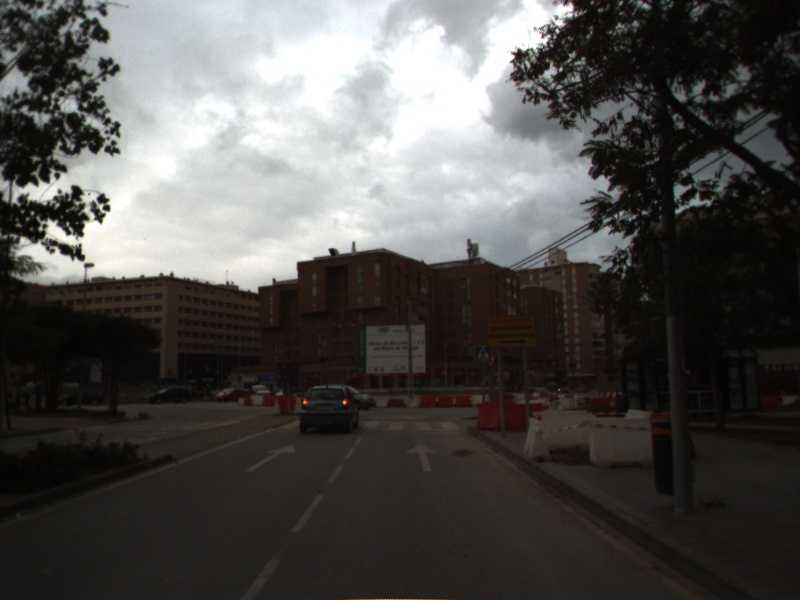STRAIGHT: (242, 442, 297, 474), (404, 441, 441, 474)
